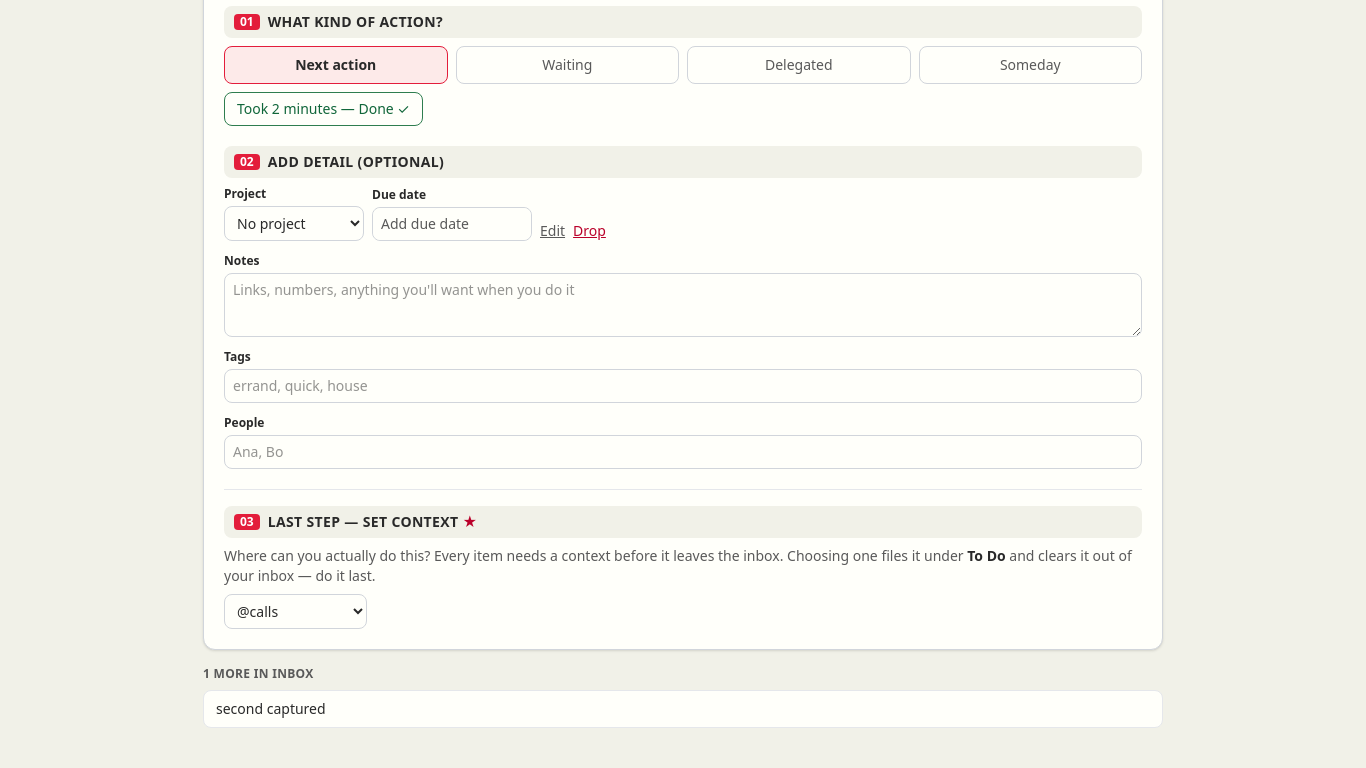
Test case: InboxPage — undoing a filing (todo-gtd #2925) › gives the restored item a working card even when the undo outran the refetch
(page scrolled)
Select "@calls" in the dropdown named "Set context and file this todo": [296, 612] box [224, 594, 367, 629]
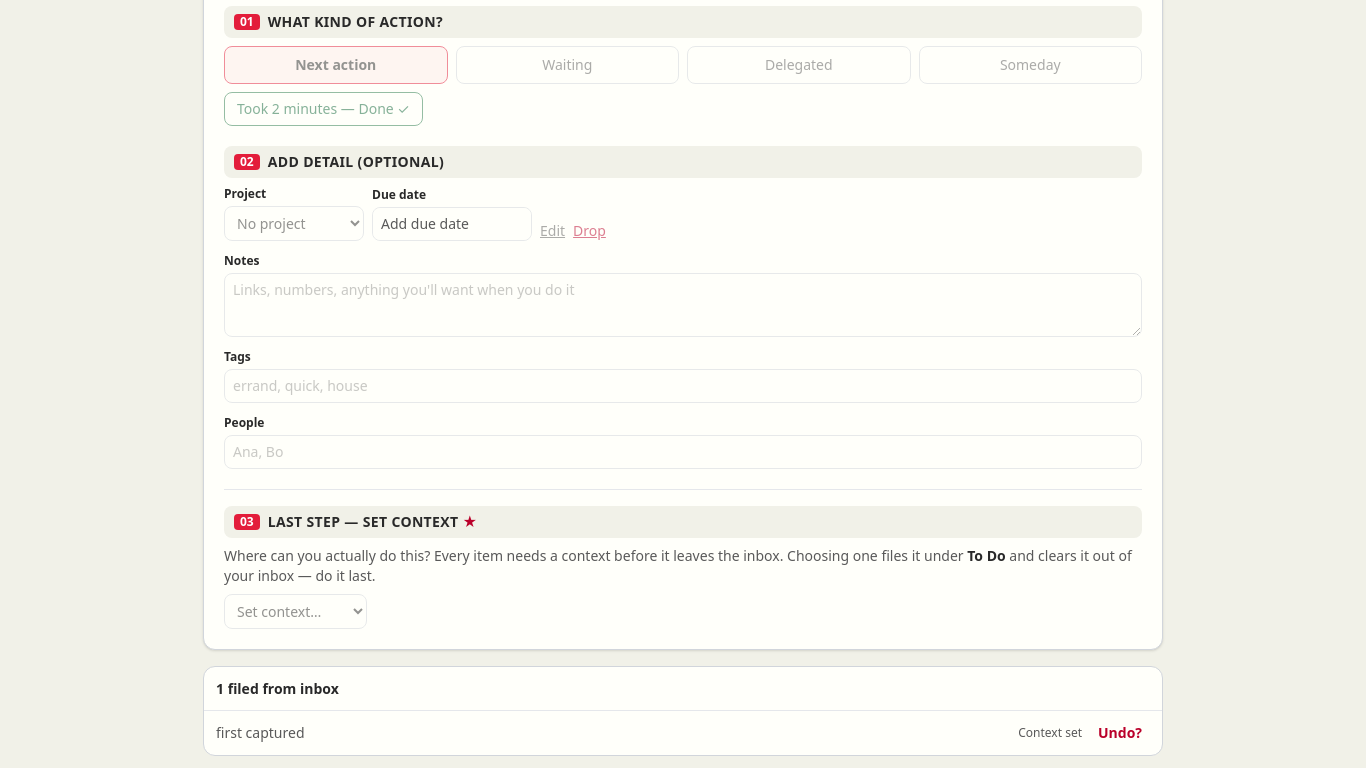
Expected: the dropdown named "Set context and file this todo" is disabled, [224, 594, 367, 629]
Click the button "Undo?": [1120, 733] box [1090, 719, 1150, 747]
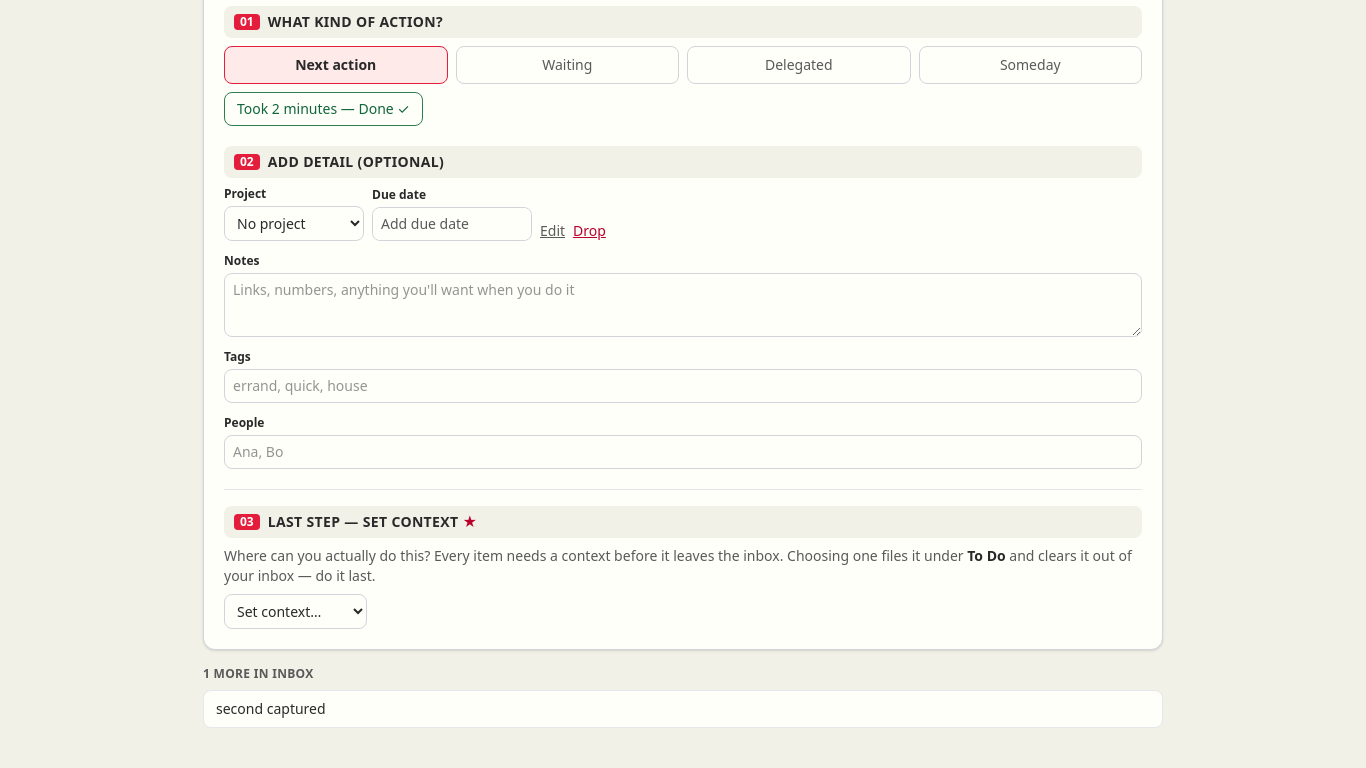
Expected: the dropdown named "Set context and file this todo" is enabled, [224, 594, 367, 629]
